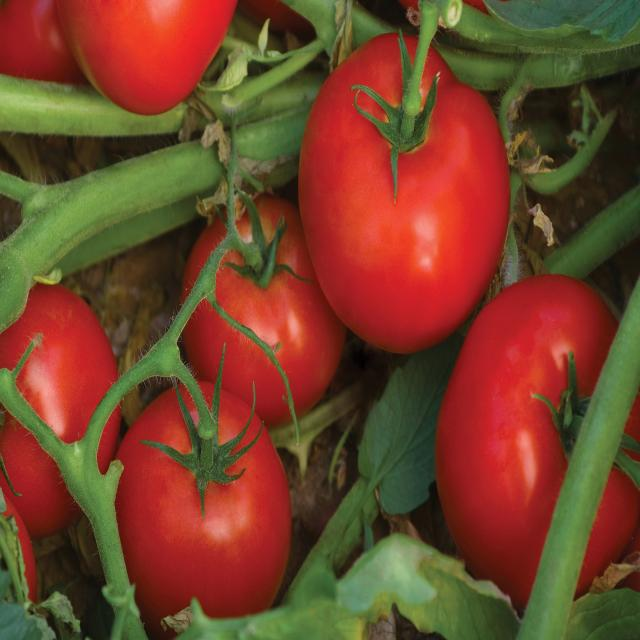tomato: (296, 30, 509, 357), (114, 378, 294, 622), (181, 198, 342, 416)
